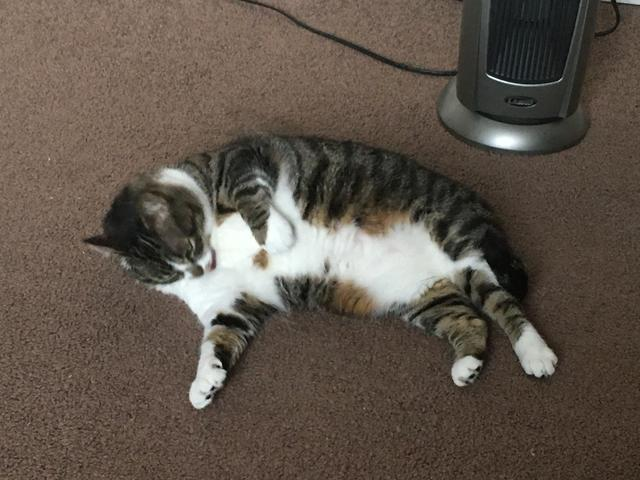playdoh: (79, 133, 559, 412)
